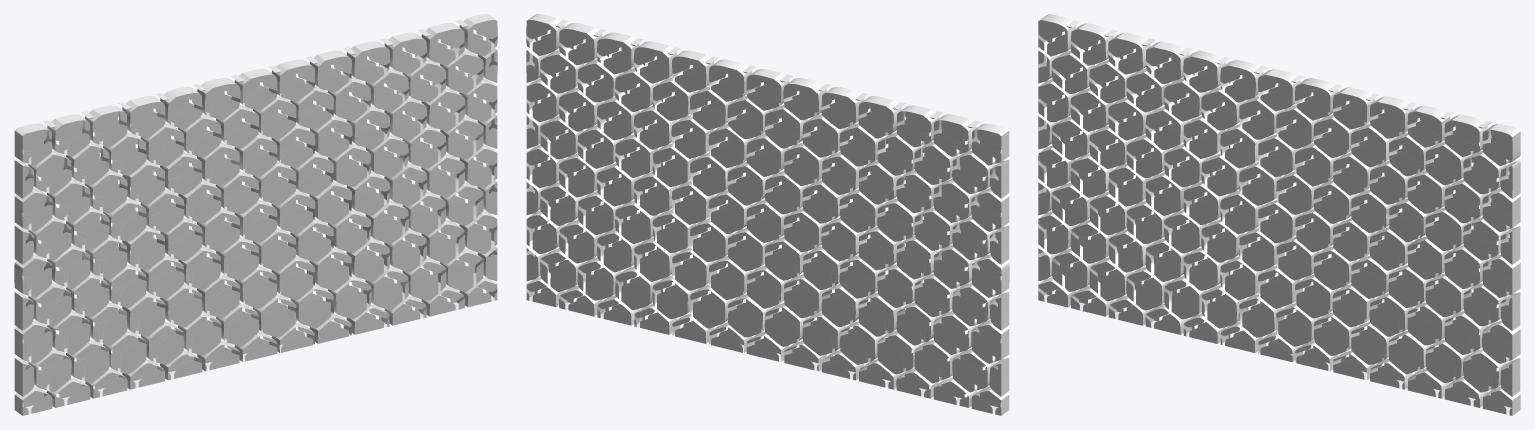
Rendered from 3Dhex.dae.
3 views of the same model, side by side, from view 1: azimuth 30°, elevation 25°; view 2: azimuth 150°, elevation 25°; view 3: azimuth 330°, elevation 25° (orthographic).
Visible parts, largest first — view 1: Layer_1; view 2: Layer_1; view 3: Layer_1.
Boxes of the visible parts, <box> form: Layer_1: <box>14,14,497,415</box>; Layer_1: <box>526,14,1009,415</box>; Layer_1: <box>1038,14,1520,415</box>.
Size of the model in its own units: 26.7 by 15.13 by 0.793.
Materials: 3 (3 with a texture image).
